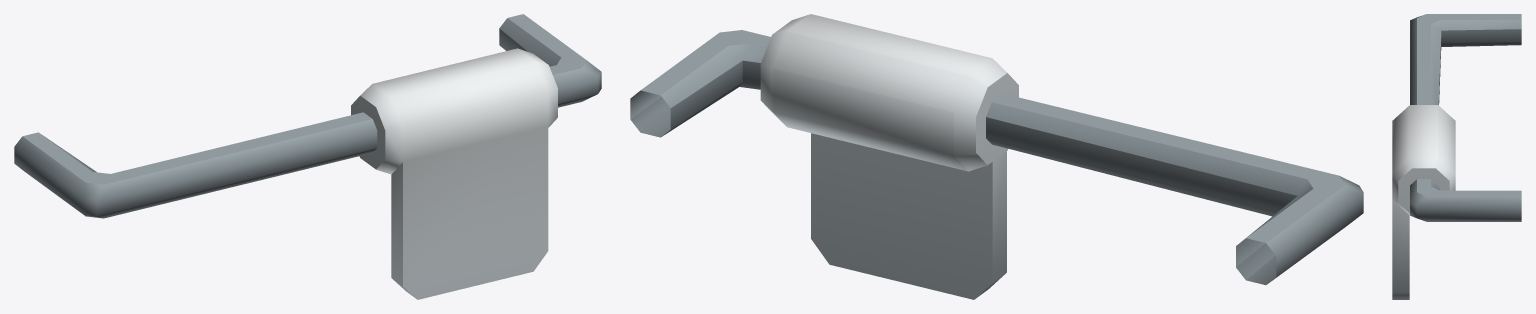
Rendered from towelrail.obj.
3 views of the same model, side by side, from view 1: azimuth 30°, elevation 25°; view 2: azimuth 150°, elevation 25°; view 3: azimuth 270°, elevation 25° (orthographic). The views are drawn at different scales.
Parts seen in each view (by area): view 1: towelrail_Cube.167; view 2: towelrail_Cube.167; view 3: towelrail_Cube.167.
Boxes of the visible parts, x1,y1,x2,y2 form: towelrail_Cube.167: [14, 14, 601, 299]; towelrail_Cube.167: [630, 14, 1363, 299]; towelrail_Cube.167: [1392, 14, 1521, 299].
Size of the model in its own units: 1.6 by 0.5829 by 0.4634.
1 material, 1 textured.
